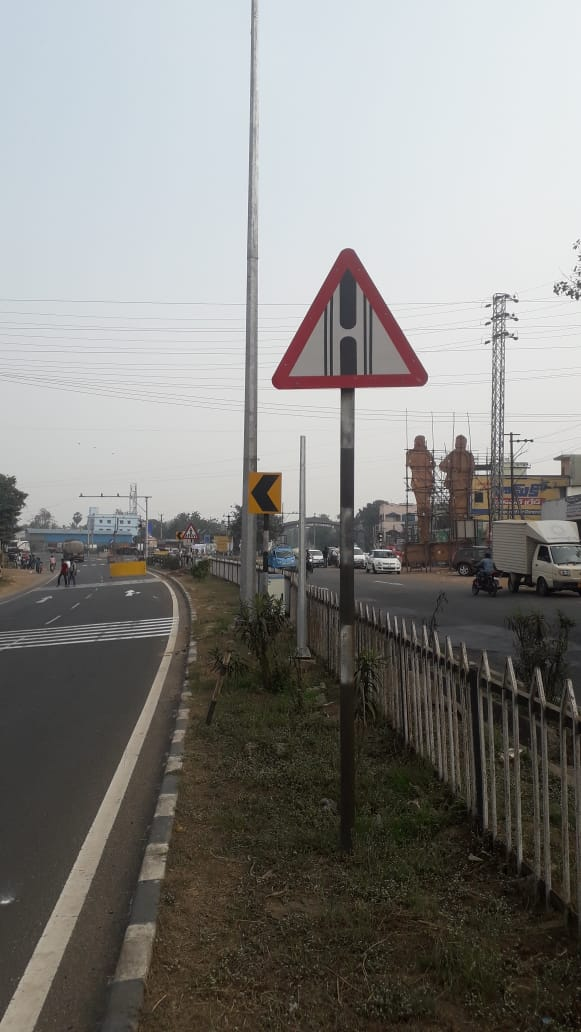highway go straight: (262, 232, 458, 410)
